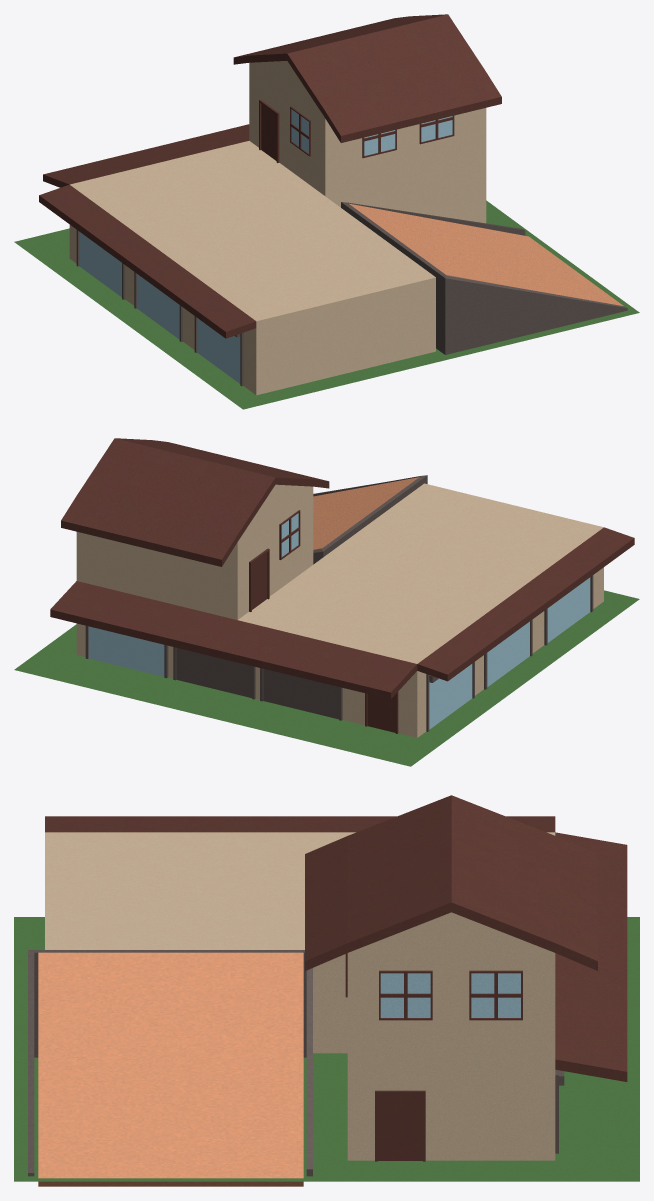
The model's file is house11.obj.
3 views of the same model, one above another, from view 1: azimuth 30°, elevation 25°; view 2: azimuth 150°, elevation 25°; view 3: azimuth 270°, elevation 25° (orthographic). The views are drawn at different scales.
Parts seen in each view (by area): view 1: House.001_Plane.009, Cube.006_Cube.002, Plane.008_Plane.003, Plane.002_Plane.011, Plane.009_Plane.003, Cube.009_Cube.124, Cube.008_Cube.123, Cube.007_Cube.122; view 2: House.001_Plane.009, Plane.002_Plane.011, Plane.007_Plane.004, Cube.006_Cube.002, Plane.008_Plane.003, Cube.009_Cube.124; view 3: House.001_Plane.009, Cube.006_Cube.002, Plane.007_Plane.004, Plane.009_Plane.003, Cube.004_Cube.120, Cube.006_Cube.121, Plane.008_Plane.003, Plane.002_Plane.011.
Boxes of the visible parts, x1,y1,x2,y2 form: House.001_Plane.009: (39, 14, 501, 395); Cube.006_Cube.002: (341, 202, 627, 354); Plane.008_Plane.003: (129, 320, 440, 409); Plane.002_Plane.011: (14, 228, 151, 325); Plane.009_Plane.003: (431, 229, 639, 361); Cube.009_Cube.124: (290, 106, 310, 156); Cube.008_Cube.123: (419, 115, 454, 144); Cube.007_Cube.122: (362, 129, 396, 158); House.001_Plane.009: (50, 438, 634, 737); Plane.002_Plane.011: (213, 677, 524, 766); Plane.007_Plane.004: (14, 624, 242, 718); Cube.006_Cube.002: (313, 475, 427, 564); Plane.008_Plane.003: (502, 590, 639, 682); Cube.009_Cube.124: (279, 510, 300, 559); House.001_Plane.009: (45, 795, 627, 1161); Cube.006_Cube.002: (28, 950, 312, 1186); Plane.007_Plane.004: (327, 1049, 639, 1181); Plane.009_Plane.003: (14, 1049, 326, 1181); Cube.004_Cube.120: (379, 970, 432, 1020); Cube.006_Cube.121: (469, 970, 522, 1020); Plane.008_Plane.003: (14, 917, 44, 1049); Plane.002_Plane.011: (627, 917, 639, 1049).
Size of the model in its own units: 40.59 by 19.15 by 40.
